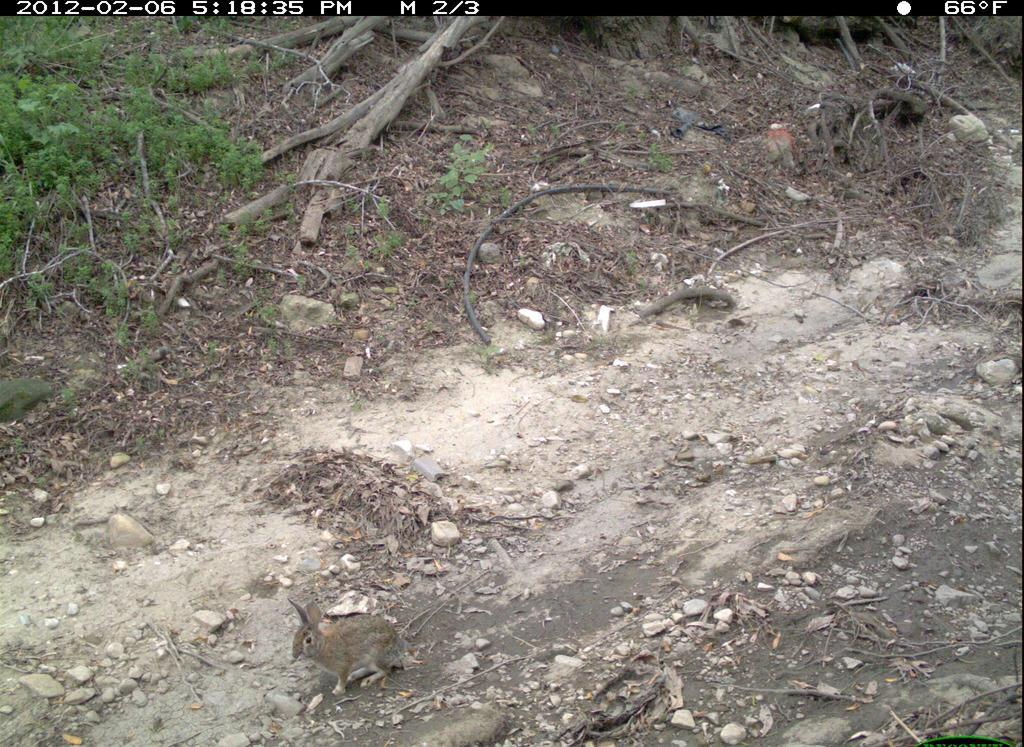rabbit: (283, 593, 417, 703)
